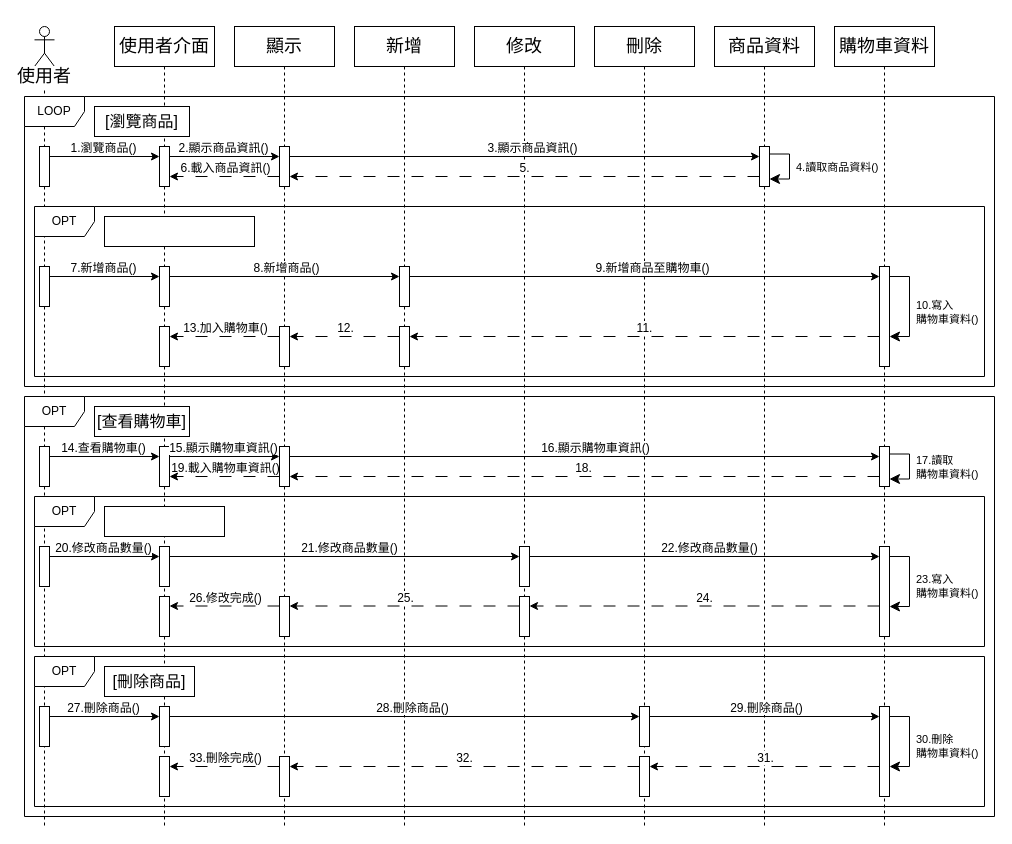
Some shapes in this 1012 by 844 pixel diagram are drawn without their labels. Each missing label, with the centre of its shape:
[修改商品數量]: the point at 164,521
[新增商品至購物車]: the point at 179,231
